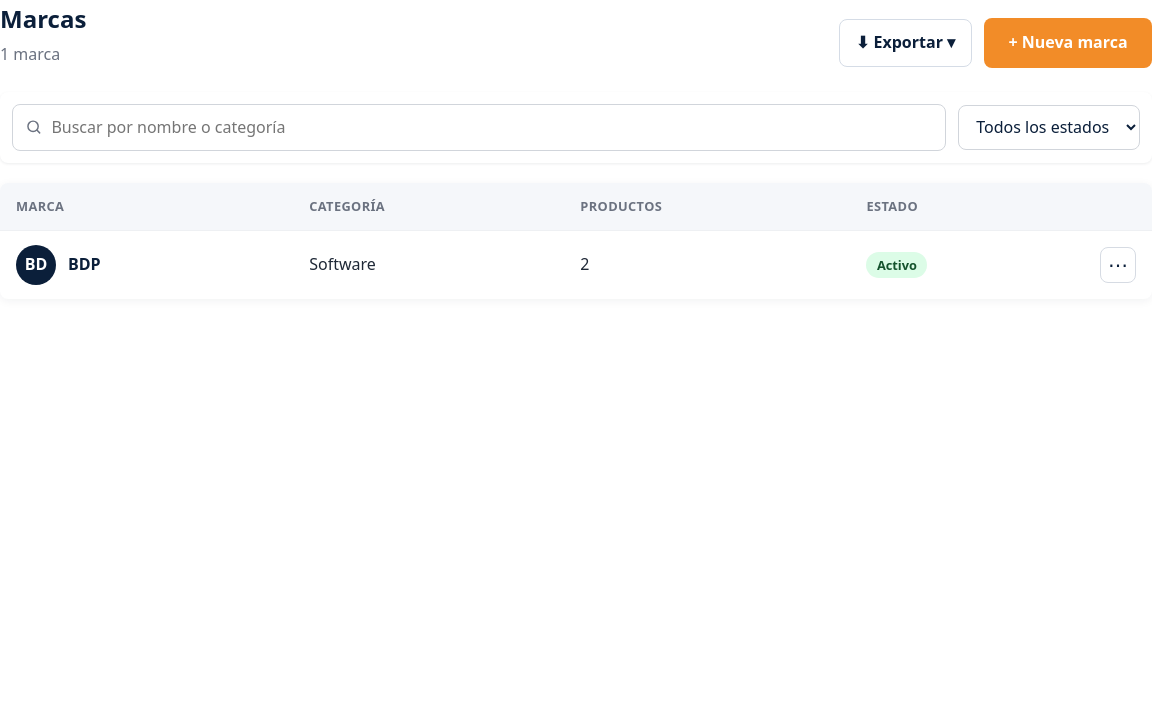
Test case: admin CRUD screens › Marcas: explains why a brand with products cannot be deleted (409)
The image size is (1152, 720).
Click the button with test id "row-actions" showing "⋯". click: (1118, 265)
box: [1100,247,1136,283]
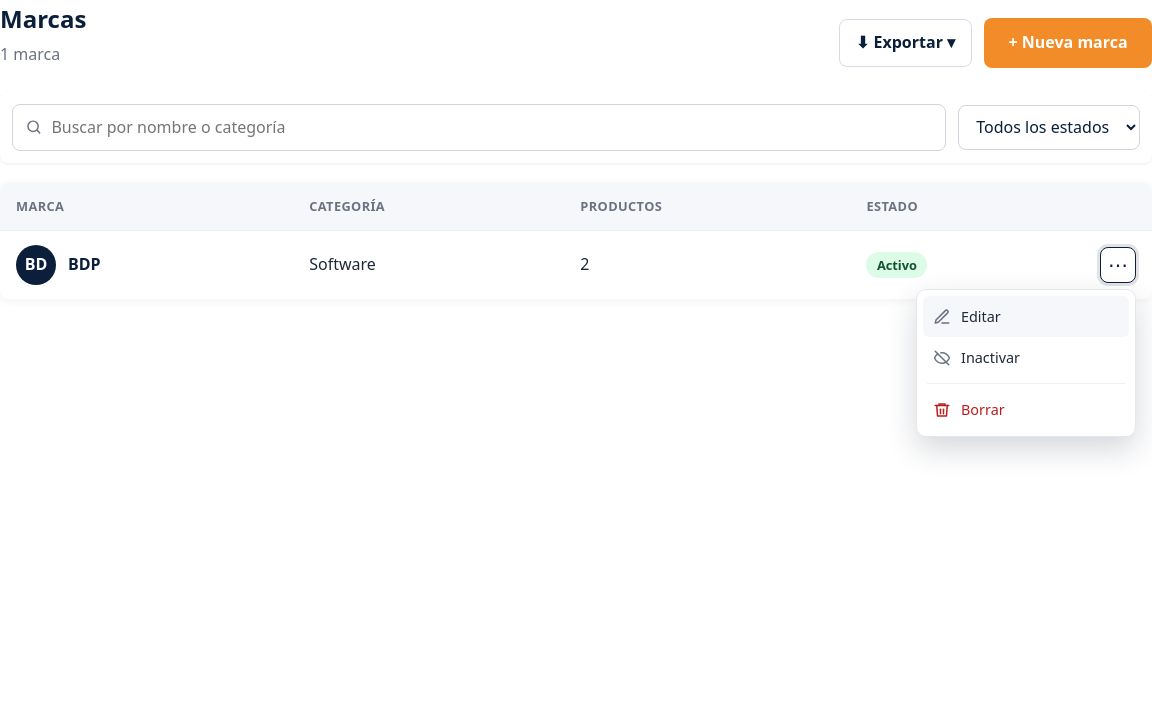
Click the menu item "Borrar". click: (1026, 410)
box: [923,389,1129,430]
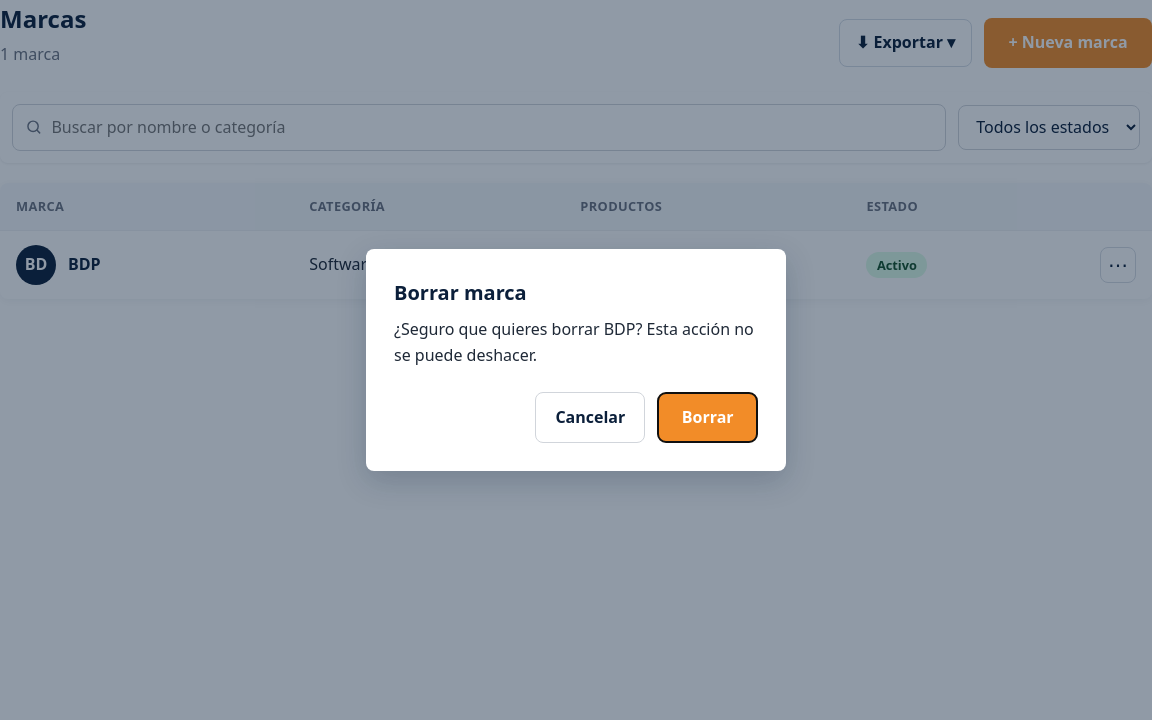
Click the button with class "confirm-dialog__confirm". click: (708, 418)
box: [657,392,758,443]
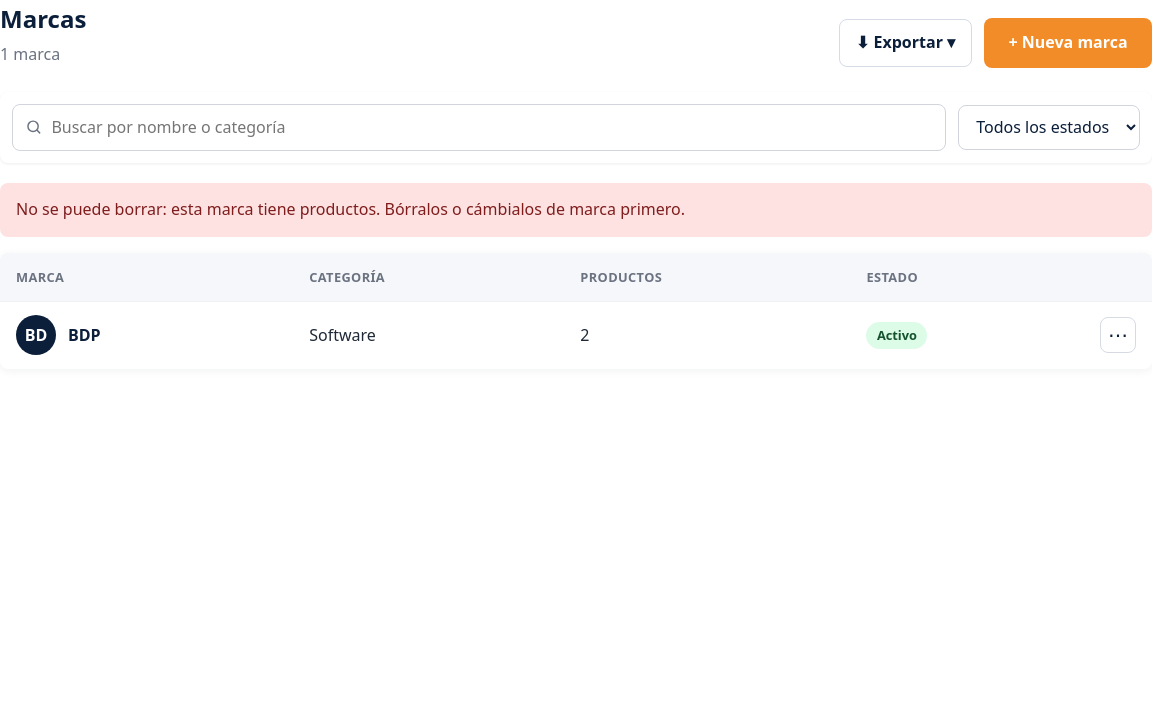
Now the message shows "esta marca tiene productos", box [16,198,685,220]
